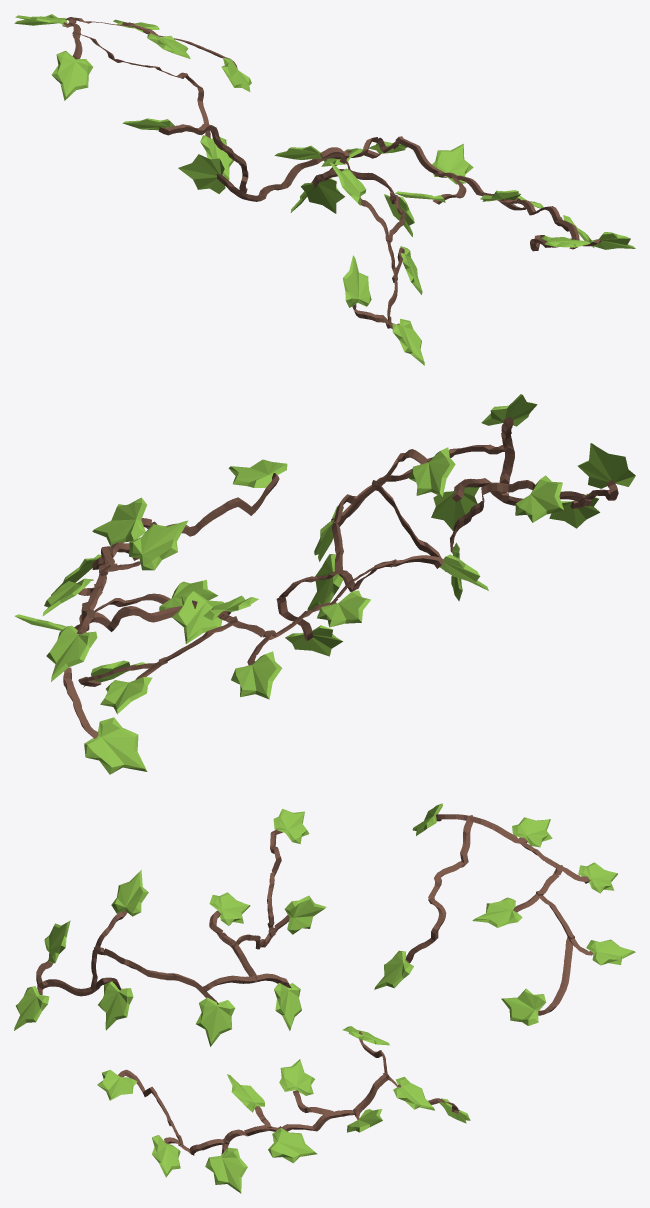
File: ivy.glb
3 views of the same model, one above another, from view 1: azimuth 30°, elevation 25°; view 2: azimuth 150°, elevation 25°; view 3: azimuth 270°, elevation 25° (orthographic). The views are drawn at different scales.
Visible parts, largest first — view 1: Node; view 2: Node; view 3: Node.
Part boxes in pixels (left/top/right/bottom): Node: left=14, top=14, right=635, bottom=365; Node: left=14, top=394, right=635, bottom=774; Node: left=14, top=803, right=635, bottom=1193.
Size of the model in its own units: 1.29 by 0.6213 by 1.69.
